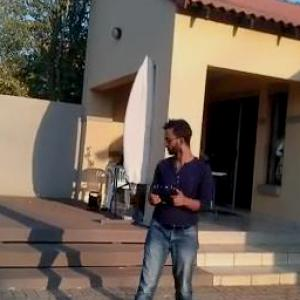follow: (126, 112, 220, 299)
